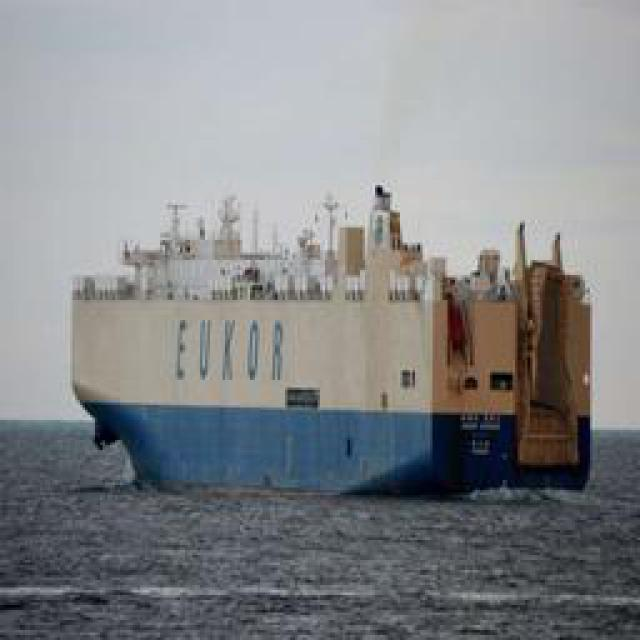Ship: (76, 189, 596, 504)
